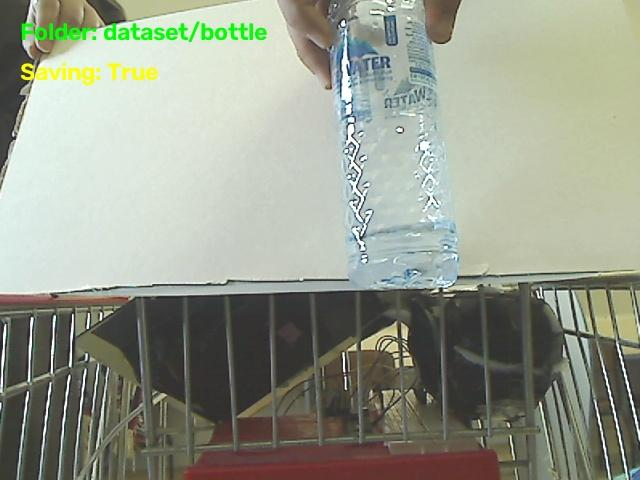Bottle: (330, 0, 457, 287)
